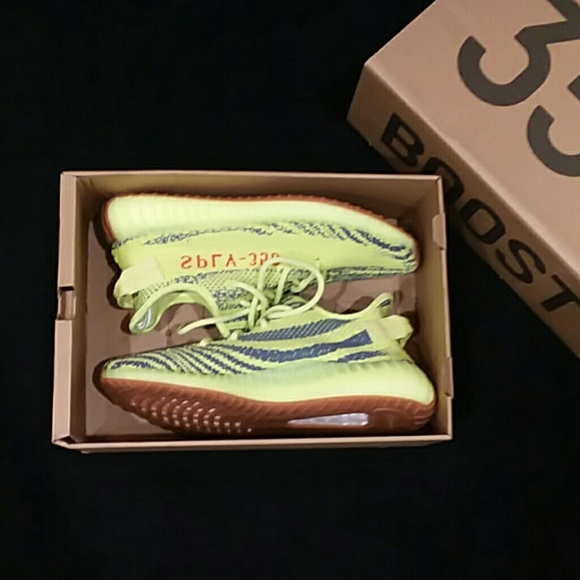Yeezy Semi-Frozen: (89, 287, 444, 436), (92, 189, 422, 336)
